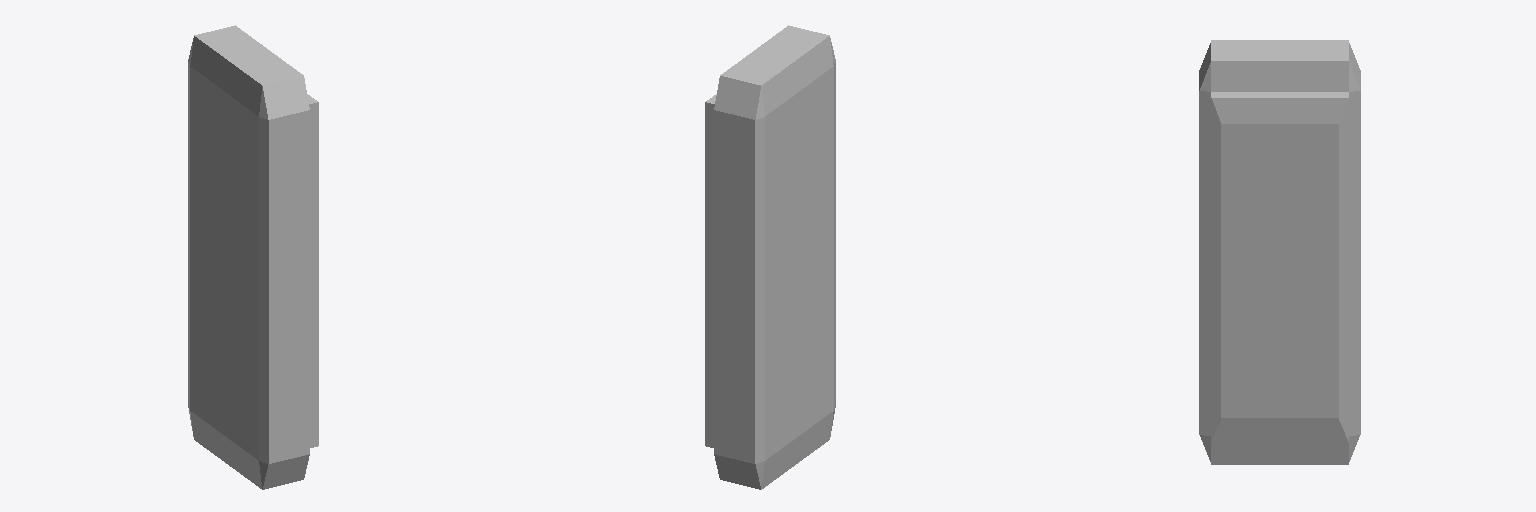
File: plaquinha.obj
The picture shows the model from 3 angles: view 1: azimuth 30°, elevation 25°; view 2: azimuth 150°, elevation 25°; view 3: azimuth 270°, elevation 25°; orthographic projection.
Parts seen in each view (by area): view 1: Cube.004; view 2: Cube.004; view 3: Cube.004.
Part boxes in pixels (bbox=[...]): Cube.004: bbox=[188, 25, 318, 489]; Cube.004: bbox=[705, 25, 835, 489]; Cube.004: bbox=[1199, 40, 1360, 464].
Bounding box in the file's own units: 0.8994 × 5.54 × 2.